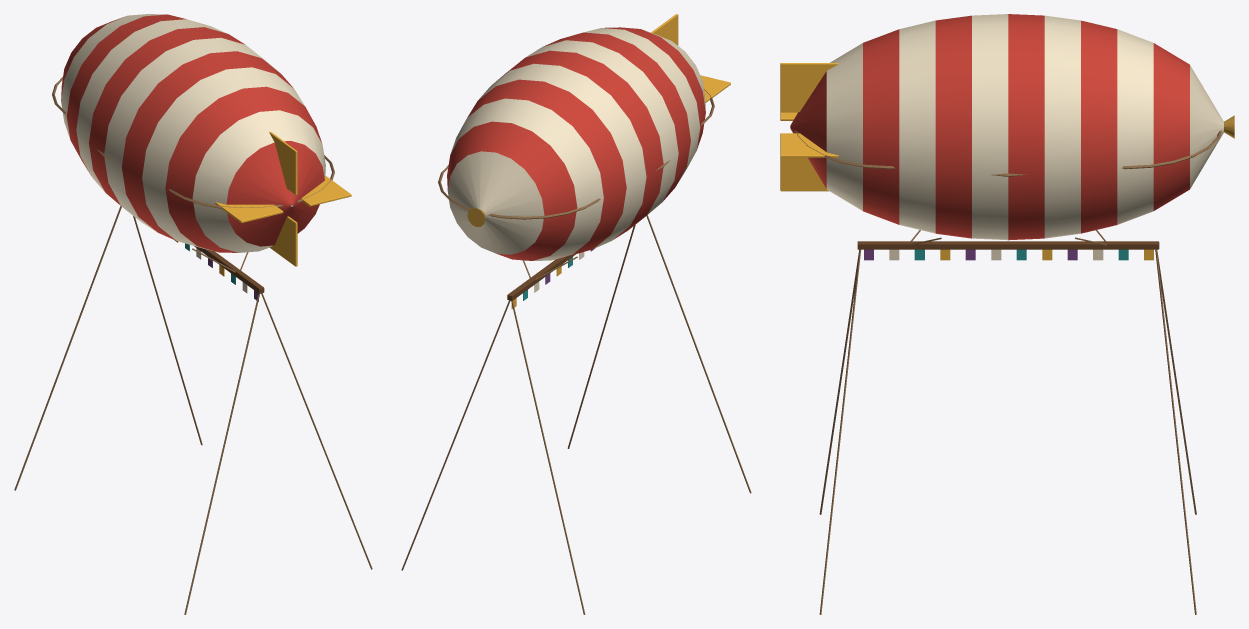
Rendered from rt_barge_envelope.glb.
3 renders of one model, left to right at view 1: azimuth 30°, elevation 25°; view 2: azimuth 150°, elevation 25°; view 3: azimuth 270°, elevation 25°, orthographic. The views are drawn at different scales.
Parts seen in each view (by area): view 1: rt_barge_envelope_body; view 2: rt_barge_envelope_body; view 3: rt_barge_envelope_body.
Part boxes in pixels (x1,y1,x2,y2): rt_barge_envelope_body: (14,14,372,614); rt_barge_envelope_body: (401,14,751,614); rt_barge_envelope_body: (780,14,1234,614).
Bounding box in the file's own units: 7.15 × 17.81 × 13.55.
